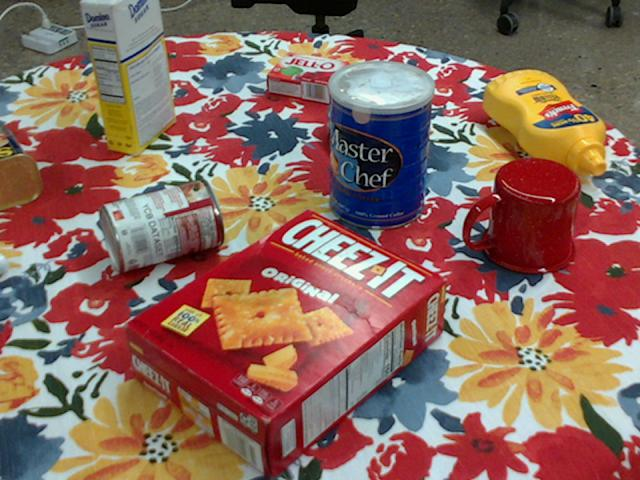cracker_box: (121, 211, 444, 479)
gelatin_box: (264, 54, 348, 105)
large_marker: (0, 253, 8, 272)
master_chef_can: (328, 61, 434, 231)
mug: (464, 158, 580, 275)
mustard_bottle: (482, 69, 605, 175)
potted_meat_can: (0, 126, 40, 209)
sugar_box: (81, 0, 175, 153)
tomato_soup_can: (96, 179, 222, 272)
tuna_fish_can: (327, 95, 400, 153)
